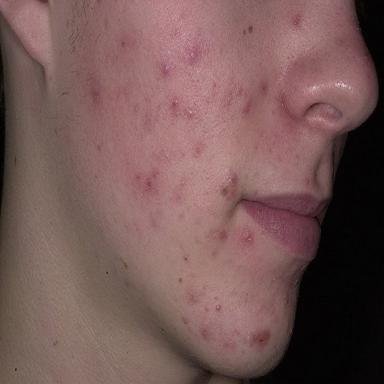acne: (220, 168, 238, 199), (185, 42, 202, 66), (146, 167, 159, 191), (251, 331, 270, 346), (242, 97, 252, 116), (241, 229, 253, 244), (161, 63, 171, 77), (293, 14, 301, 29), (260, 80, 269, 93), (92, 89, 100, 102), (171, 97, 179, 109), (201, 327, 208, 339), (219, 230, 227, 240), (189, 294, 197, 303), (187, 108, 193, 116), (305, 180, 310, 188), (216, 304, 221, 311), (136, 173, 140, 180)
